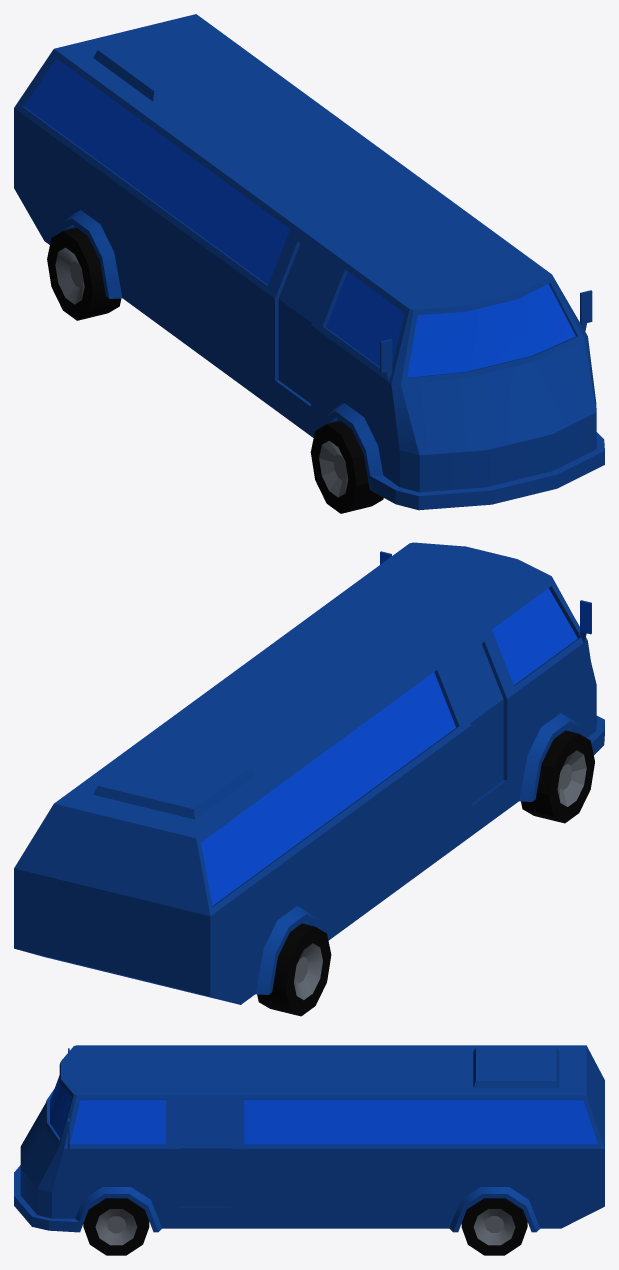
File: autobus_1.FBX
3 renders of one model, top to bottom at view 1: azimuth 30°, elevation 25°; view 2: azimuth 150°, elevation 25°; view 3: azimuth 270°, elevation 25°, orthographic. The views are drawn at different scales.
Visible parts, largest first — view 1: Autobus; view 2: Autobus; view 3: Autobus.
Boxes of the visible parts, <box> form: Autobus: <box>14,14,604,513</box>; Autobus: <box>14,542,604,1016</box>; Autobus: <box>14,1045,604,1255</box>.
Size of the model in its own units: 127 by 115 by 398.
